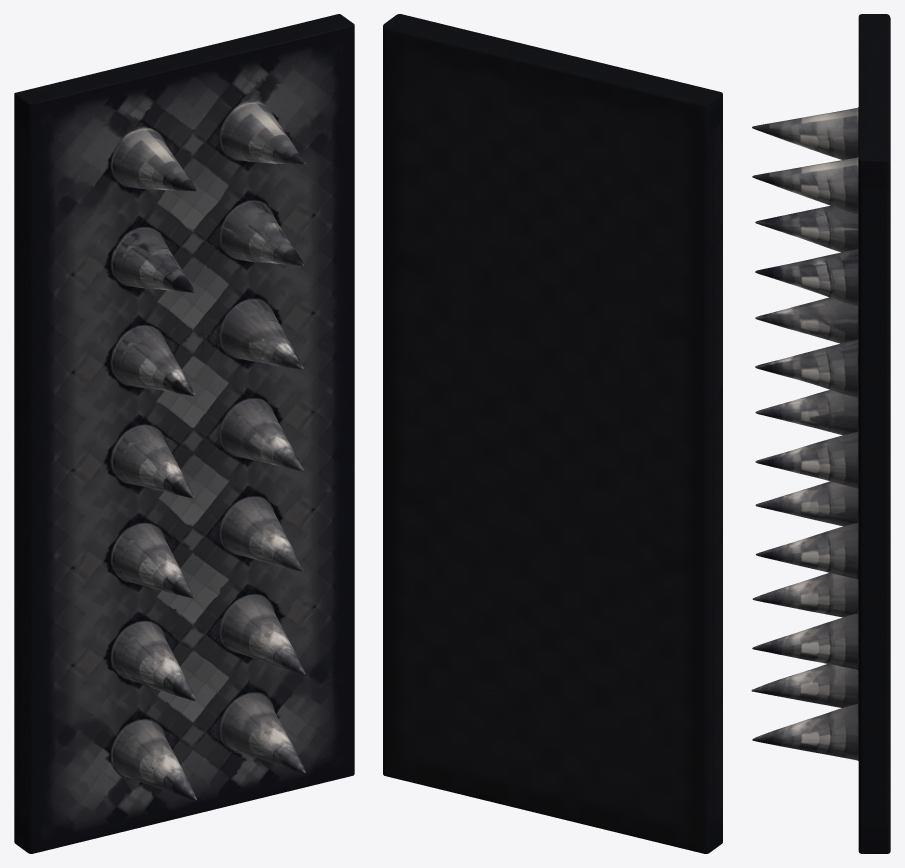
The model's file is wall_spike.glb.
3 views of the same model, side by side, from view 1: azimuth 30°, elevation 25°; view 2: azimuth 150°, elevation 25°; view 3: azimuth 270°, elevation 25° (orthographic). The views are drawn at different scales.
Parts seen in each view (by area): view 1: mesh_node; view 2: mesh_node; view 3: mesh_node.
Part boxes in pixels (x1,y1,x2,y2): mesh_node: (14, 14, 354, 853); mesh_node: (383, 14, 722, 853); mesh_node: (751, 14, 890, 853).
Bounding box in the file's own units: 0.8662 × 1.9 × 0.3461.
1 material, 1 textured.
